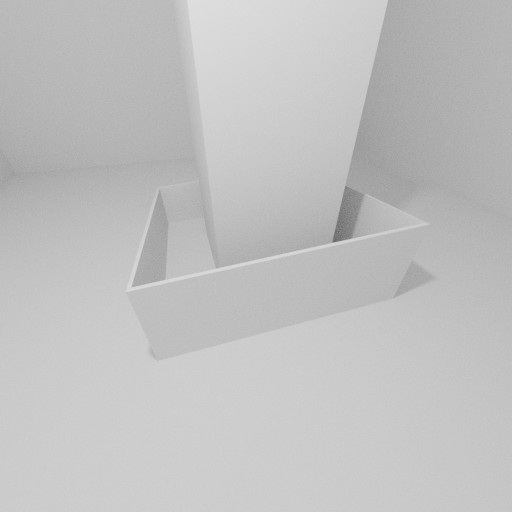cheminee: (171, 1, 397, 297)
eaf: (131, 223, 424, 357)
